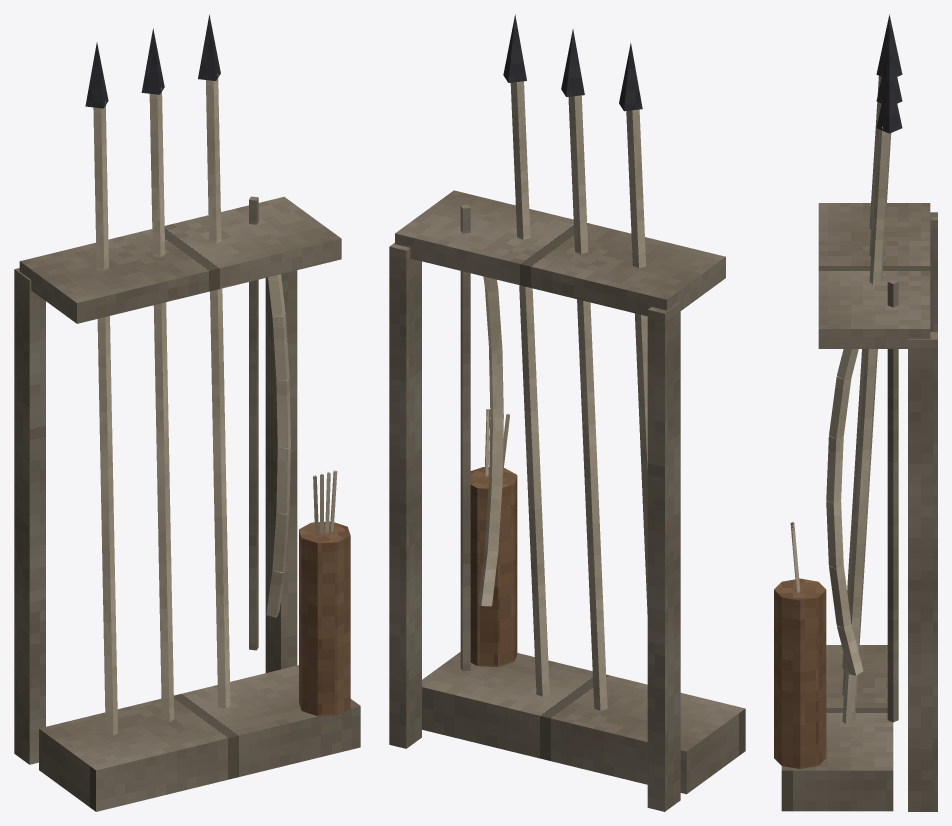
The model's file is weapon_rack.glb.
3 renders of one model, left to right at view 1: azimuth 30°, elevation 25°; view 2: azimuth 150°, elevation 25°; view 3: azimuth 270°, elevation 25°, orthographic. The views are drawn at different scales.
Parts seen in each view (by area): view 1: body; view 2: body; view 3: body.
Part boxes in pixels (x1,y1,x2,y2): body: (14, 14, 360, 811); body: (389, 14, 745, 811); body: (774, 14, 937, 811).
Size of the model in its own units: 0.81 by 2.07 by 0.44.
Materials: 4 (4 with a texture image).
